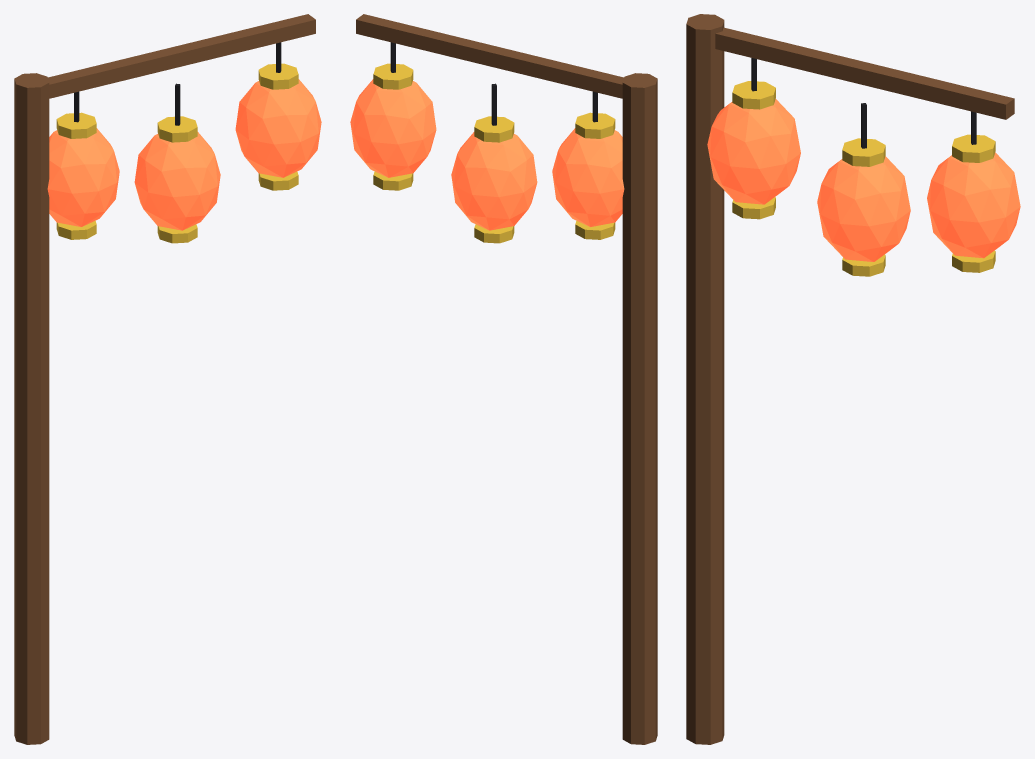
The model's file is lantern_post.glb.
The picture shows the model from 3 angles, left to right: view 1: azimuth 30°, elevation 25°; view 2: azimuth 150°, elevation 25°; view 3: azimuth 330°, elevation 25°; orthographic projection. The views are drawn at different scales.
Visible parts, largest first — view 1: lantern_post; view 2: lantern_post; view 3: lantern_post.
Part boxes in pixels (left/top/right/bottom): lantern_post: left=14, top=14, right=321, bottom=744; lantern_post: left=350, top=14, right=657, bottom=744; lantern_post: left=686, top=14, right=1020, bottom=744.
Bounding box in the file's own units: 1.33 × 2.8 × 0.34.
